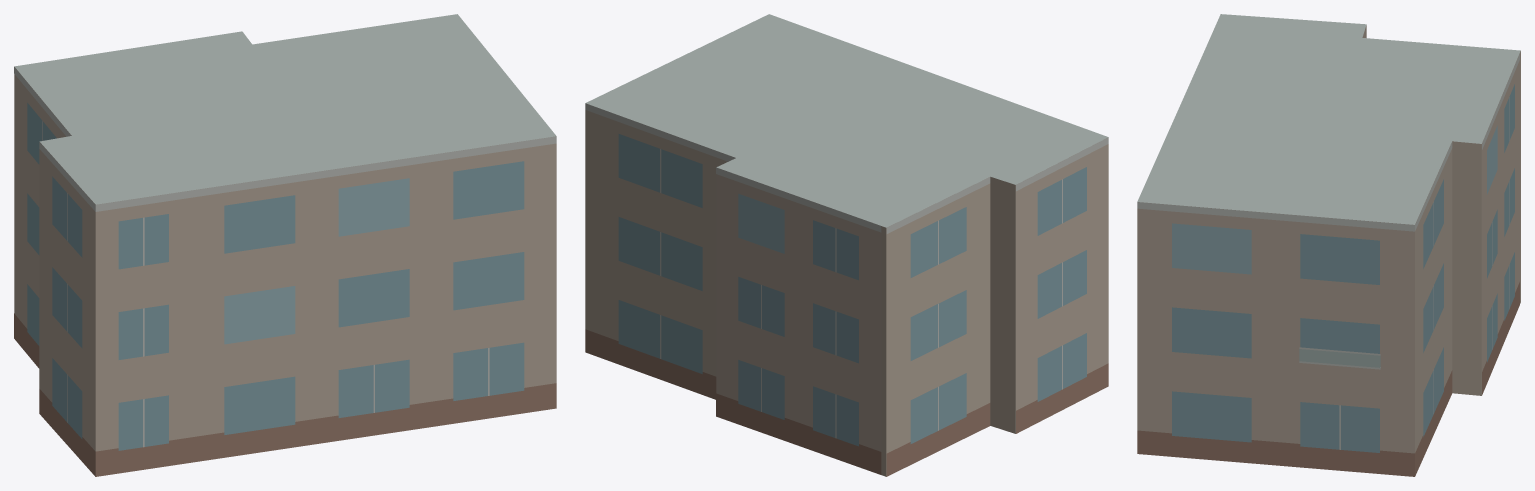
The model's file is survey-upis-32675059.glb.
3 renders of one model, left to right at view 1: azimuth 30°, elevation 25°; view 2: azimuth 150°, elevation 25°; view 3: azimuth 270°, elevation 25°, orthographic. The views are drawn at different scales.
Visible parts, largest first — view 1: survey-upis-32675059.tmp; view 2: survey-upis-32675059.tmp; view 3: survey-upis-32675059.tmp.
Boxes of the visible parts, left/top/right/bottom form: survey-upis-32675059.tmp: left=14, top=14, right=556, bottom=476; survey-upis-32675059.tmp: left=585, top=14, right=1108, bottom=476; survey-upis-32675059.tmp: left=1137, top=14, right=1520, bottom=476.
Size of the model in its own units: 16.44 by 9.15 by 12.64.
